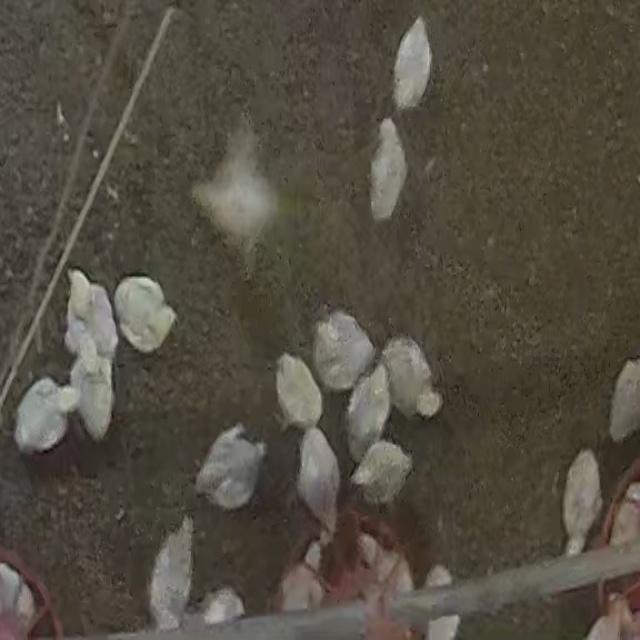chicken: (194, 121, 278, 255), (194, 424, 266, 512), (148, 512, 194, 636), (64, 268, 121, 364), (379, 334, 441, 422), (310, 309, 374, 394), (112, 273, 177, 354), (13, 377, 78, 457), (296, 425, 342, 536), (344, 362, 392, 465), (68, 344, 115, 445), (561, 449, 603, 556), (390, 14, 438, 106), (351, 438, 414, 508), (368, 118, 408, 224), (275, 538, 328, 616), (274, 352, 324, 432), (364, 533, 414, 607), (426, 551, 461, 640), (607, 355, 640, 444), (0, 561, 32, 630), (197, 586, 246, 628)
